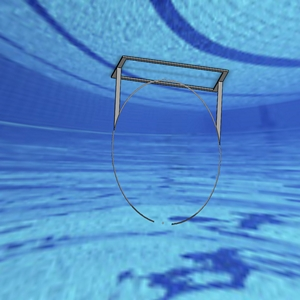circle: (109, 54, 226, 226)
